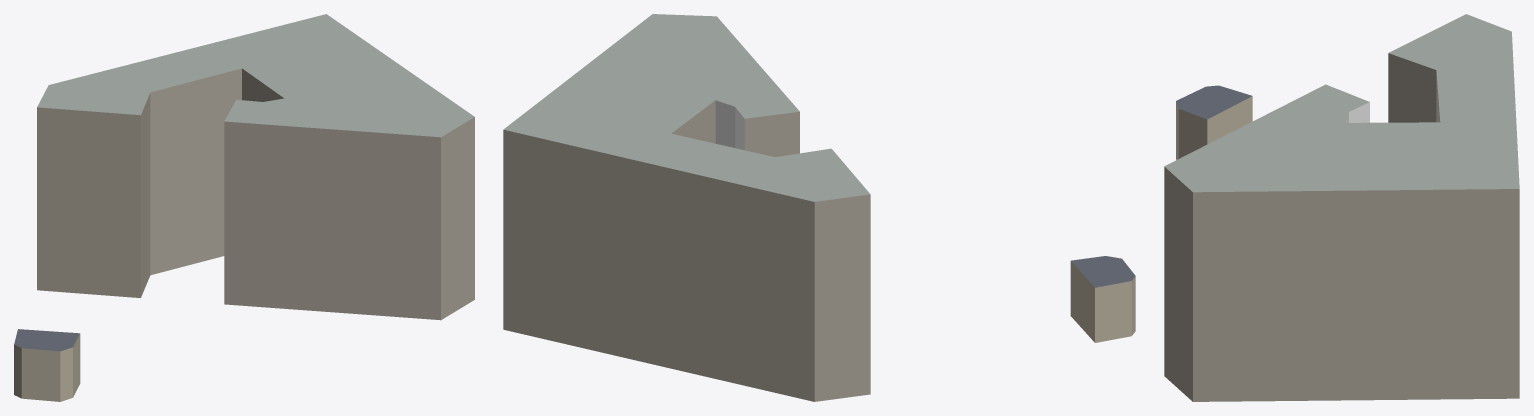
3 views of the same model, side by side, from view 1: azimuth 30°, elevation 25°; view 2: azimuth 150°, elevation 25°; view 3: azimuth 270°, elevation 25° (orthographic). The views are drawn at different scales.
Visible parts, largest first — view 1: tuile; view 2: tuile; view 3: tuile.
Boxes of the visible parts, left/top/right/bottom form: tuile: left=14, top=14, right=474, bottom=401; tuile: left=503, top=14, right=1135, bottom=401; tuile: left=1164, top=14, right=1519, bottom=401.
Size of the model in its own units: 45.7 by 17.78 by 27.3.
